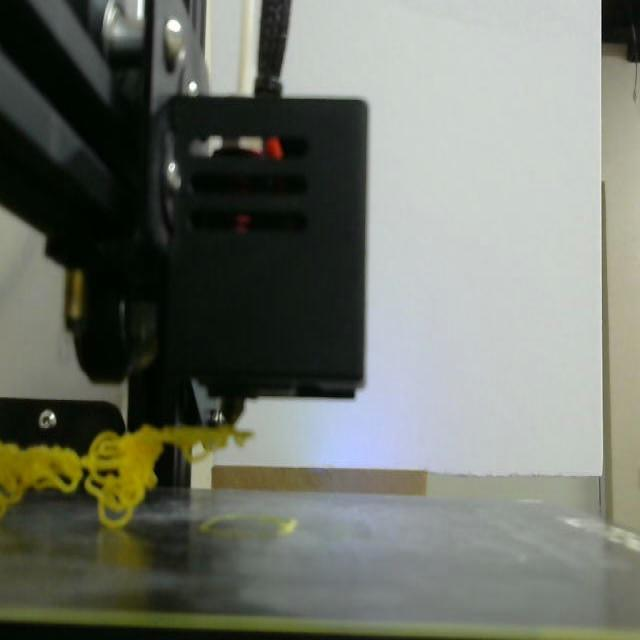spaghetti: (0, 425, 250, 528)
